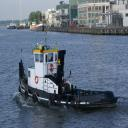tugboat: (19, 18, 120, 115)
